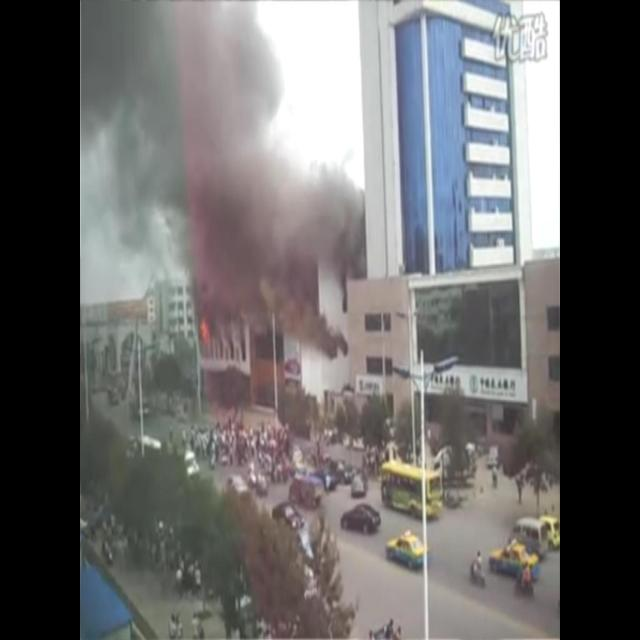fire: (199, 314, 212, 340)
smoke: (78, 0, 365, 357)
